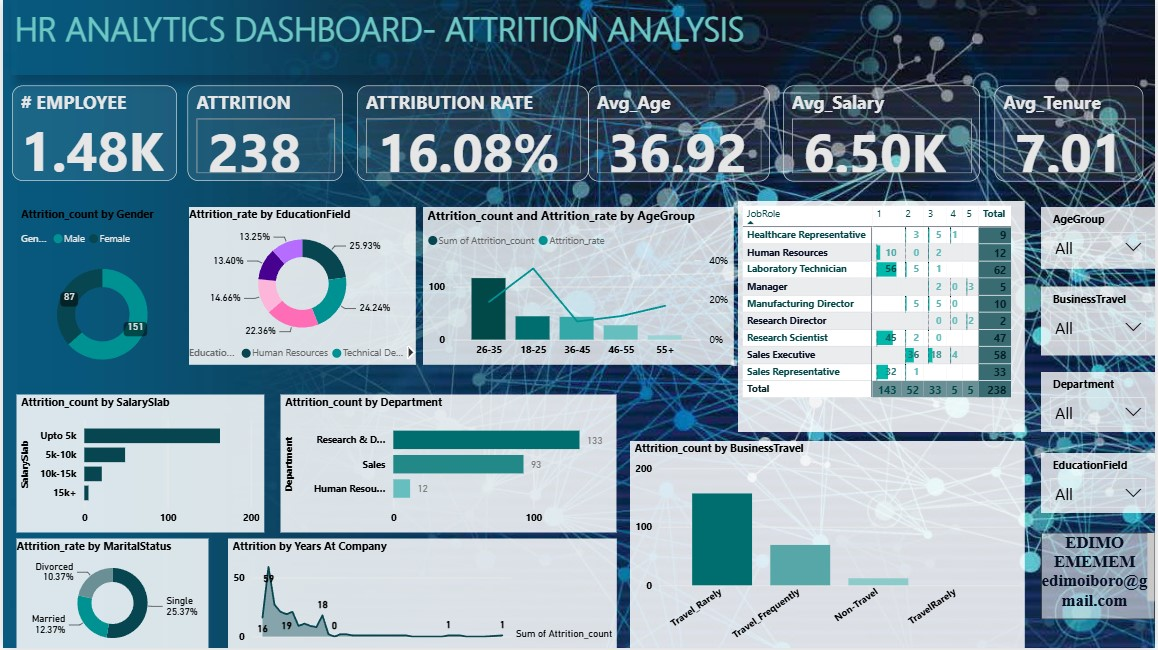

This screenshot's page, from the dashboard's own definition file:
{"tool":"powerbi","page":{"name":"Page 1","canvas":[1280,720],"ordinal":0},"visuals":[{"type":"textbox","box":[9.1,0,947.9,83.3],"z":0},{"type":"cardVisual","title":"# EMPLOYEE ","fields":{"Data":["CountNonNull(HR_Analytics.EmpID)"]},"box":[10.6,95.4,183.2,106],"z":1000},{"type":"cardVisual","title":"ATTRITION","fields":{"Data":["Sum(HR_Analytics.Attrition_count)"]},"box":[204.4,95.4,172.6,106],"z":2000},{"type":"cardVisual","title":"ATTRIBUTION RATE","fields":{"Data":["HR_Analytics.Attrition_rate"]},"box":[393.7,95.4,257.4,106],"z":3000},{"type":"cardVisual","title":"Avg_Age","fields":{"Data":["Avg(HR_Analytics.Age)"]},"box":[650,95,201.7,106.7],"z":4000},{"type":"cardVisual","title":"Avg_Salary","fields":{"Data":["Avg(HR_Analytics.MonthlyIncome)"]},"box":[866.7,95,218.3,106.7],"z":5000},{"type":"cardVisual","title":"Avg_Tenure","fields":{"Data":["Avg(HR_Analytics.YearsAtCompany)"]},"box":[1101.7,95,165,106.7],"z":6000},{"type":"donutChart","title":"Attrition_count by Gender","fields":{"Category":["HR_Analytics.Gender"],"Y":["Sum(HR_Analytics.Attrition_count)"]},"box":[15,230,190,195],"z":7000},{"type":"donutChart","fields":{"Category":["HR_Analytics.EducationField","HR_Analytics.YearsAtCompany"],"Y":["HR_Analytics.Attrition_rate"]},"box":[206.7,230,251.7,175],"z":8000},{"type":"lineClusteredColumnComboChart","title":"Attrition_count and Attrition_rate by AgeGroup","fields":{"Category":["HR_Analytics.AgeGroup"],"Y":["Sum(HR_Analytics.Attrition_count)"],"Y2":["HR_Analytics.Attrition_rate"]},"box":[466.7,230,345,175],"z":9000},{"type":"pivotTable","fields":{"Rows":["HR_Analytics.JobRole"],"Columns":["HR_Analytics.JobLevel"],"Values":["Sum(HR_Analytics.Attrition_count)"]},"box":[816.7,223.3,318.3,256.7],"z":10000},{"type":"barChart","title":" Attrition_count by SalarySlab","fields":{"Category":["HR_Analytics.SalarySlab"],"Y":["Sum(HR_Analytics.Attrition_count)"]},"box":[15,438.3,275,153.3],"z":11000},{"type":"areaChart","title":"Attrition by Years At Company","fields":{"Category":["HR_Analytics.YearsAtCompany"],"Y":["Sum(HR_Analytics.Attrition_count)"]},"box":[250,598.3,431.7,121.7],"z":12000},{"type":"barChart","title":" Attrition_count by Department","fields":{"Y":["Sum(HR_Analytics.Attrition_count)"],"Category":["HR_Analytics.Department"]},"box":[308.3,438.3,373.3,153.3],"z":13000},{"type":"donutChart","fields":{"Y":["HR_Analytics.Attrition_rate"],"Category":["HR_Analytics.MaritalStatus"]},"box":[15,598.3,213.3,121.7],"z":14000},{"type":"columnChart","title":"Attrition_count by BusinessTravel","fields":{"Category":["HR_Analytics.BusinessTravel"],"Y":["Sum(HR_Analytics.Attrition_count)"]},"box":[696.7,490,438.3,230],"z":15000},{"type":"slicer","fields":{"Values":["HR_Analytics.AgeGroup"]},"box":[1153.3,230,126.7,68.3],"z":16000},{"type":"slicer","fields":{"Values":["HR_Analytics.BusinessTravel"]},"box":[1153.3,318.3,126.7,76.7],"z":17000},{"type":"slicer","fields":{"Values":["HR_Analytics.Department"]},"box":[1153.3,413.3,126.7,66.7],"z":18000},{"type":"slicer","fields":{"Values":["HR_Analytics.EducationField"]},"box":[1153.3,503.3,126.7,66.7],"z":19000},{"type":"textbox","box":[393.3,100,6.7,280],"z":20000},{"type":"textbox","box":[1153.3,591.7,126.7,96.7],"z":20001}]}

Visuals, with their boxes in screenshot pixels (x1, y1, x2, y2), scaled from the page's 1280x720 canvas onto the 1158x650 screenshot:
textbox: l=8, t=0, r=866, b=75
"# EMPLOYEE " cardVisual: l=10, t=86, r=175, b=182
"ATTRITION" cardVisual: l=185, t=86, r=341, b=182
"ATTRIBUTION RATE" cardVisual: l=356, t=86, r=589, b=182
"Avg_Age" cardVisual: l=588, t=86, r=771, b=182
"Avg_Salary" cardVisual: l=784, t=86, r=982, b=182
"Avg_Tenure" cardVisual: l=997, t=86, r=1146, b=182
"Attrition_count by Gender" donutChart: l=14, t=208, r=185, b=384
donutChart - HR_Analytics.EducationField x HR_Analytics.YearsAtCompany: l=187, t=208, r=415, b=366
"Attrition_count and Attrition_rate by AgeGroup" lineClusteredColumnComboChart: l=422, t=208, r=734, b=366
pivotTable - HR_Analytics.JobRole x HR_Analytics.JobLevel: l=739, t=202, r=1027, b=433
" Attrition_count by SalarySlab" barChart: l=14, t=396, r=262, b=534
"Attrition by Years At Company" areaChart: l=226, t=540, r=617, b=649
" Attrition_count by Department" barChart: l=279, t=396, r=617, b=534
donutChart - HR_Analytics.Attrition_rate x HR_Analytics.MaritalStatus: l=14, t=540, r=207, b=649
"Attrition_count by BusinessTravel" columnChart: l=630, t=442, r=1027, b=649
slicer - HR_Analytics.AgeGroup: l=1043, t=208, r=1157, b=269
slicer - HR_Analytics.BusinessTravel: l=1043, t=287, r=1157, b=357
slicer - HR_Analytics.Department: l=1043, t=373, r=1157, b=433
slicer - HR_Analytics.EducationField: l=1043, t=454, r=1157, b=515
textbox: l=356, t=90, r=362, b=343
textbox: l=1043, t=534, r=1157, b=621
